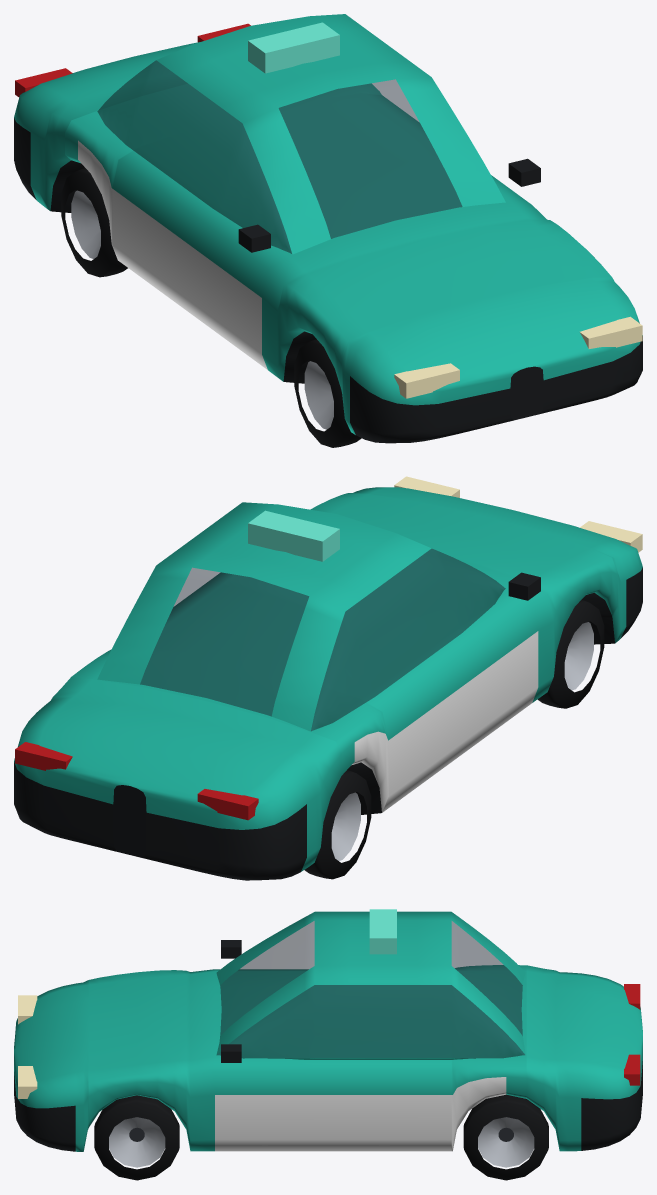
File: mobile.glb
The picture shows the model from 3 angles, top to bottom: view 1: azimuth 30°, elevation 25°; view 2: azimuth 150°, elevation 25°; view 3: azimuth 270°, elevation 25°; orthographic projection. The views are drawn at different scales.
Visible parts, largest first — view 1: body, glass, roof_sign, tyre_rr, tyre_fr, light_head_r, rim_rr, rim_fr, light_head_l, light_brake_r; view 2: body, glass, roof_sign, tyre_rr, tyre_fr, rim_fr, rim_rr, light_brake_r, light_brake_l, light_head_r, light_head_l; view 3: body, glass, tyre_rl, tyre_fl, rim_rl, rim_fl, roof_sign, light_head_l, light_brake_l, light_head_r.
Part boxes in pixels (left/top/right/bottom): body: left=14, top=14, right=642, bottom=443; glass: left=97, top=60, right=462, bottom=253; roof_sign: left=248, top=22, right=339, bottom=73; tyre_rr: left=61, top=168, right=127, bottom=277; tyre_fr: left=294, top=339, right=361, bottom=447; light_head_r: left=394, top=363, right=459, bottom=398; rim_rr: left=71, top=190, right=100, bottom=258; rim_fr: left=304, top=361, right=333, bottom=429; light_head_l: left=580, top=316, right=642, bottom=348; light_brake_r: left=15, top=68, right=72, bottom=97; body: left=14, top=487, right=642, bottom=880; glass: left=140, top=548, right=505, bottom=731; roof_sign: left=248, top=510, right=339, bottom=561; tyre_rr: left=304, top=770, right=371, bottom=879; tyre_fr: left=537, top=600, right=604, bottom=708; rim_fr: left=564, top=622, right=593, bottom=690; rim_rr: left=331, top=792, right=360, bottom=860; light_brake_r: left=197, top=789, right=258, bottom=820; light_brake_l: left=15, top=742, right=72, bottom=770; light_head_r: left=580, top=521, right=642, bottom=552; light_head_l: left=394, top=476, right=459, bottom=497; body: left=14, top=911, right=642, bottom=1151; glass: left=217, top=921, right=524, bottom=1058; tyre_rl: left=463, top=1094, right=548, bottom=1180; tyre_fl: left=94, top=1095, right=179, bottom=1180; rim_rl: left=478, top=1117, right=534, bottom=1167; rim_fl: left=109, top=1117, right=165, bottom=1167; roof_sign: left=369, top=909, right=396, bottom=954; light_head_l: left=18, top=1066, right=37, bottom=1098; light_brake_l: left=624, top=1054, right=640, bottom=1085; light_head_r: left=18, top=995, right=37, bottom=1024.
Size of what is drawn, in the model's own units: 1.93 by 1.67 by 4.6.
